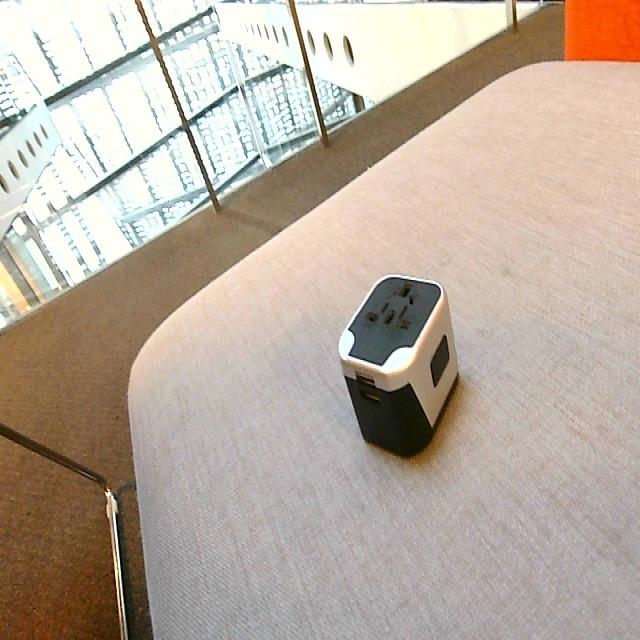adapter: (337, 272, 459, 457)
